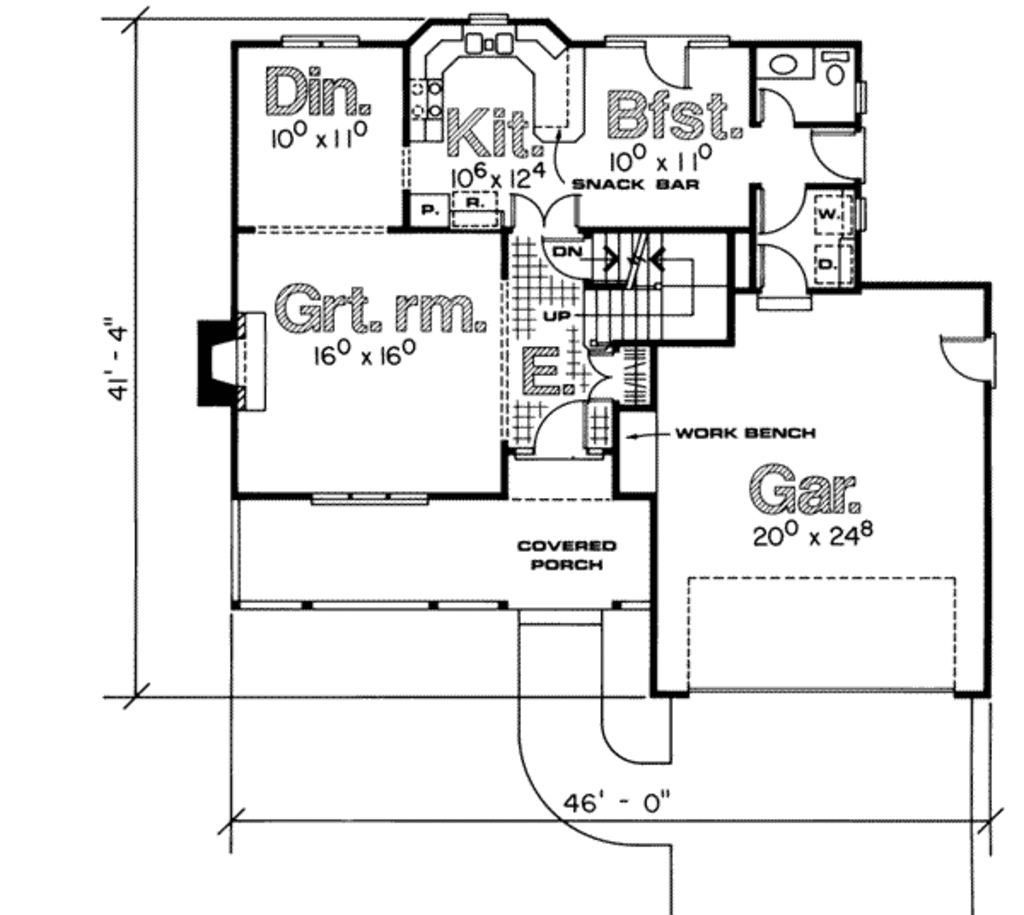door: (531, 398, 592, 470), (808, 122, 868, 190), (506, 183, 583, 233), (938, 329, 999, 391), (753, 238, 810, 298), (754, 178, 806, 236), (641, 36, 696, 88), (580, 346, 620, 406), (756, 85, 801, 134)
large_sink: (819, 46, 857, 88)
small_sink: (752, 48, 823, 85)
stairs: (577, 234, 729, 348)
twin_sink: (458, 21, 522, 58)
window: (310, 486, 437, 510), (278, 29, 365, 50), (854, 77, 873, 117)
